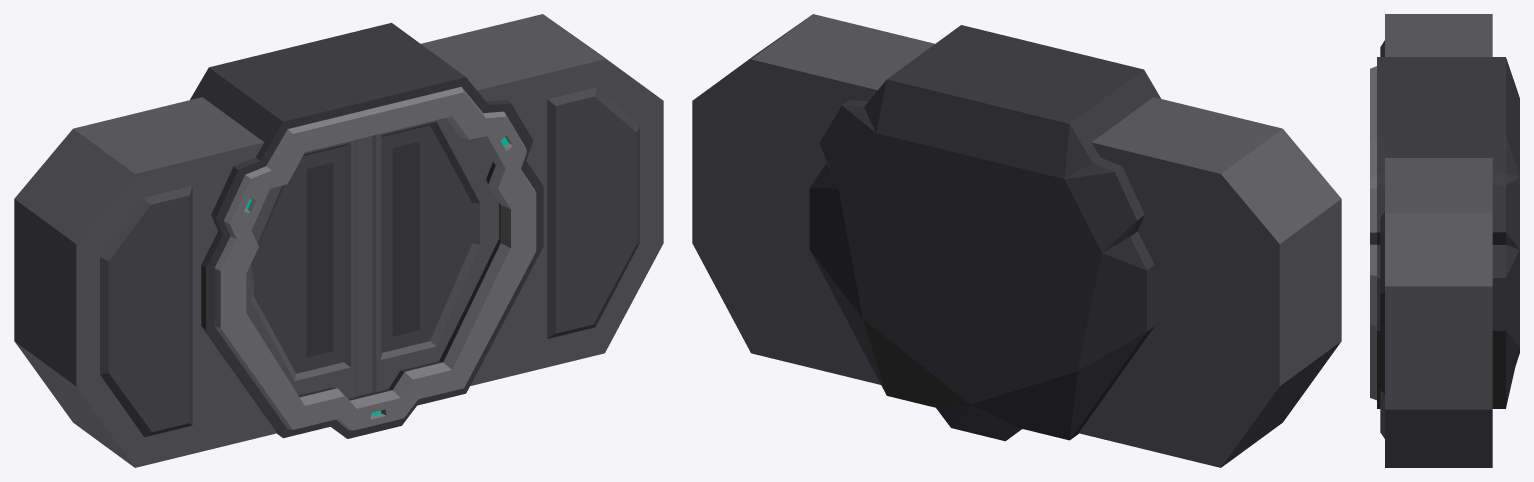
The model's file is SM_Prop_EscapePod_Hatch_Large_01.glb.
3 views of the same model, side by side, from view 1: azimuth 30°, elevation 25°; view 2: azimuth 150°, elevation 25°; view 3: azimuth 270°, elevation 25° (orthographic). The views are drawn at different scales.
Visible parts, largest first — view 1: SM_Prop_EscapePod_Hatch_Large_01, SM_Prop_EscapePod_Door_02, SM_Prop_EscapePod_Door_01; view 2: SM_Prop_EscapePod_Hatch_Large_01; view 3: SM_Prop_EscapePod_Hatch_Large_01.
Part boxes in pixels (x1,y1,x2,y2): SM_Prop_EscapePod_Hatch_Large_01: (14,14,663,467); SM_Prop_EscapePod_Door_02: (356,118,498,396); SM_Prop_EscapePod_Door_01: (246,139,372,398); SM_Prop_EscapePod_Hatch_Large_01: (692,14,1341,467); SM_Prop_EscapePod_Hatch_Large_01: (1370,14,1519,467).
Size of the model in its own units: 7.93 by 4.3 by 2.02.
Materials: 1 (1 with a texture image).
